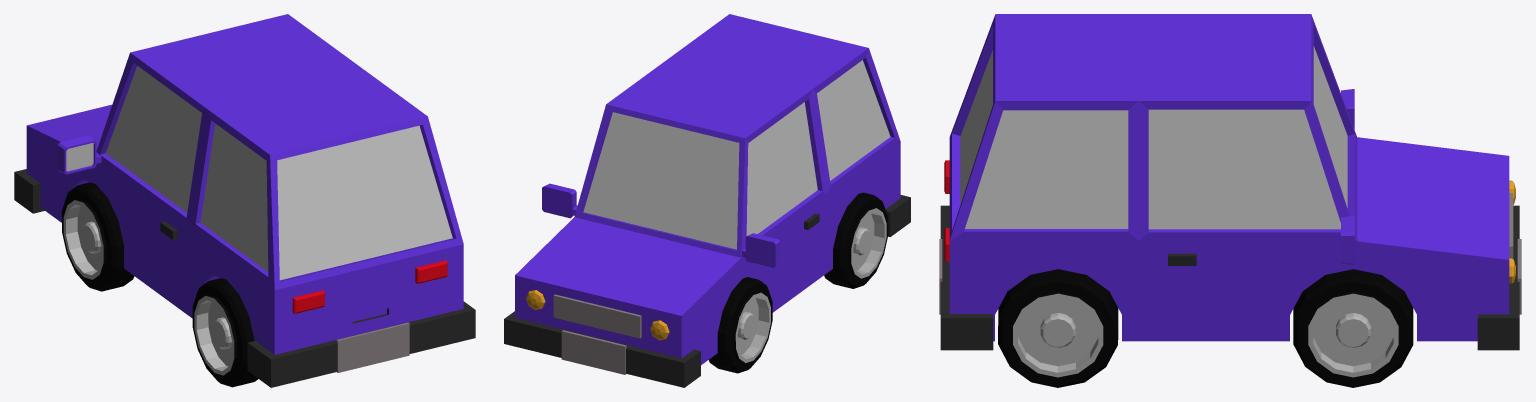
The model's file is Car.fbx.
3 views of the same model, side by side, from view 1: azimuth 30°, elevation 25°; view 2: azimuth 150°, elevation 25°; view 3: azimuth 270°, elevation 25° (orthographic). The views are drawn at different scales.
Visible parts, largest first — view 1: Plane, Cylinder; view 2: Plane, Cylinder; view 3: Plane, Cylinder.
Boxes of the visible parts, bbox=[...] form: Plane: bbox=[14, 14, 475, 387]; Cylinder: bbox=[61, 182, 258, 387]; Plane: bbox=[504, 14, 910, 387]; Cylinder: bbox=[709, 192, 888, 373]; Plane: bbox=[939, 14, 1521, 350]; Cylinder: bbox=[998, 269, 1413, 387].
Size of the model in its own units: 270 by 237 by 456.
